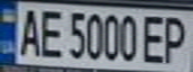0: (118, 11, 142, 63), (81, 9, 103, 61), (103, 10, 121, 62)
5: (63, 8, 87, 60)
A: (15, 5, 42, 57)
E: (139, 12, 169, 64), (36, 4, 63, 58)
P: (157, 12, 193, 65)
